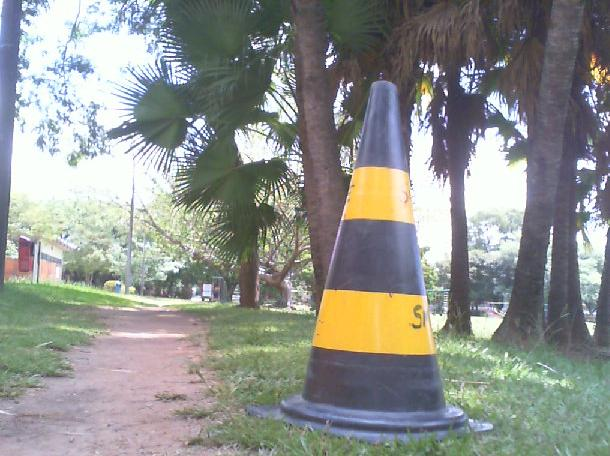0 cone: (244, 80, 492, 443)
